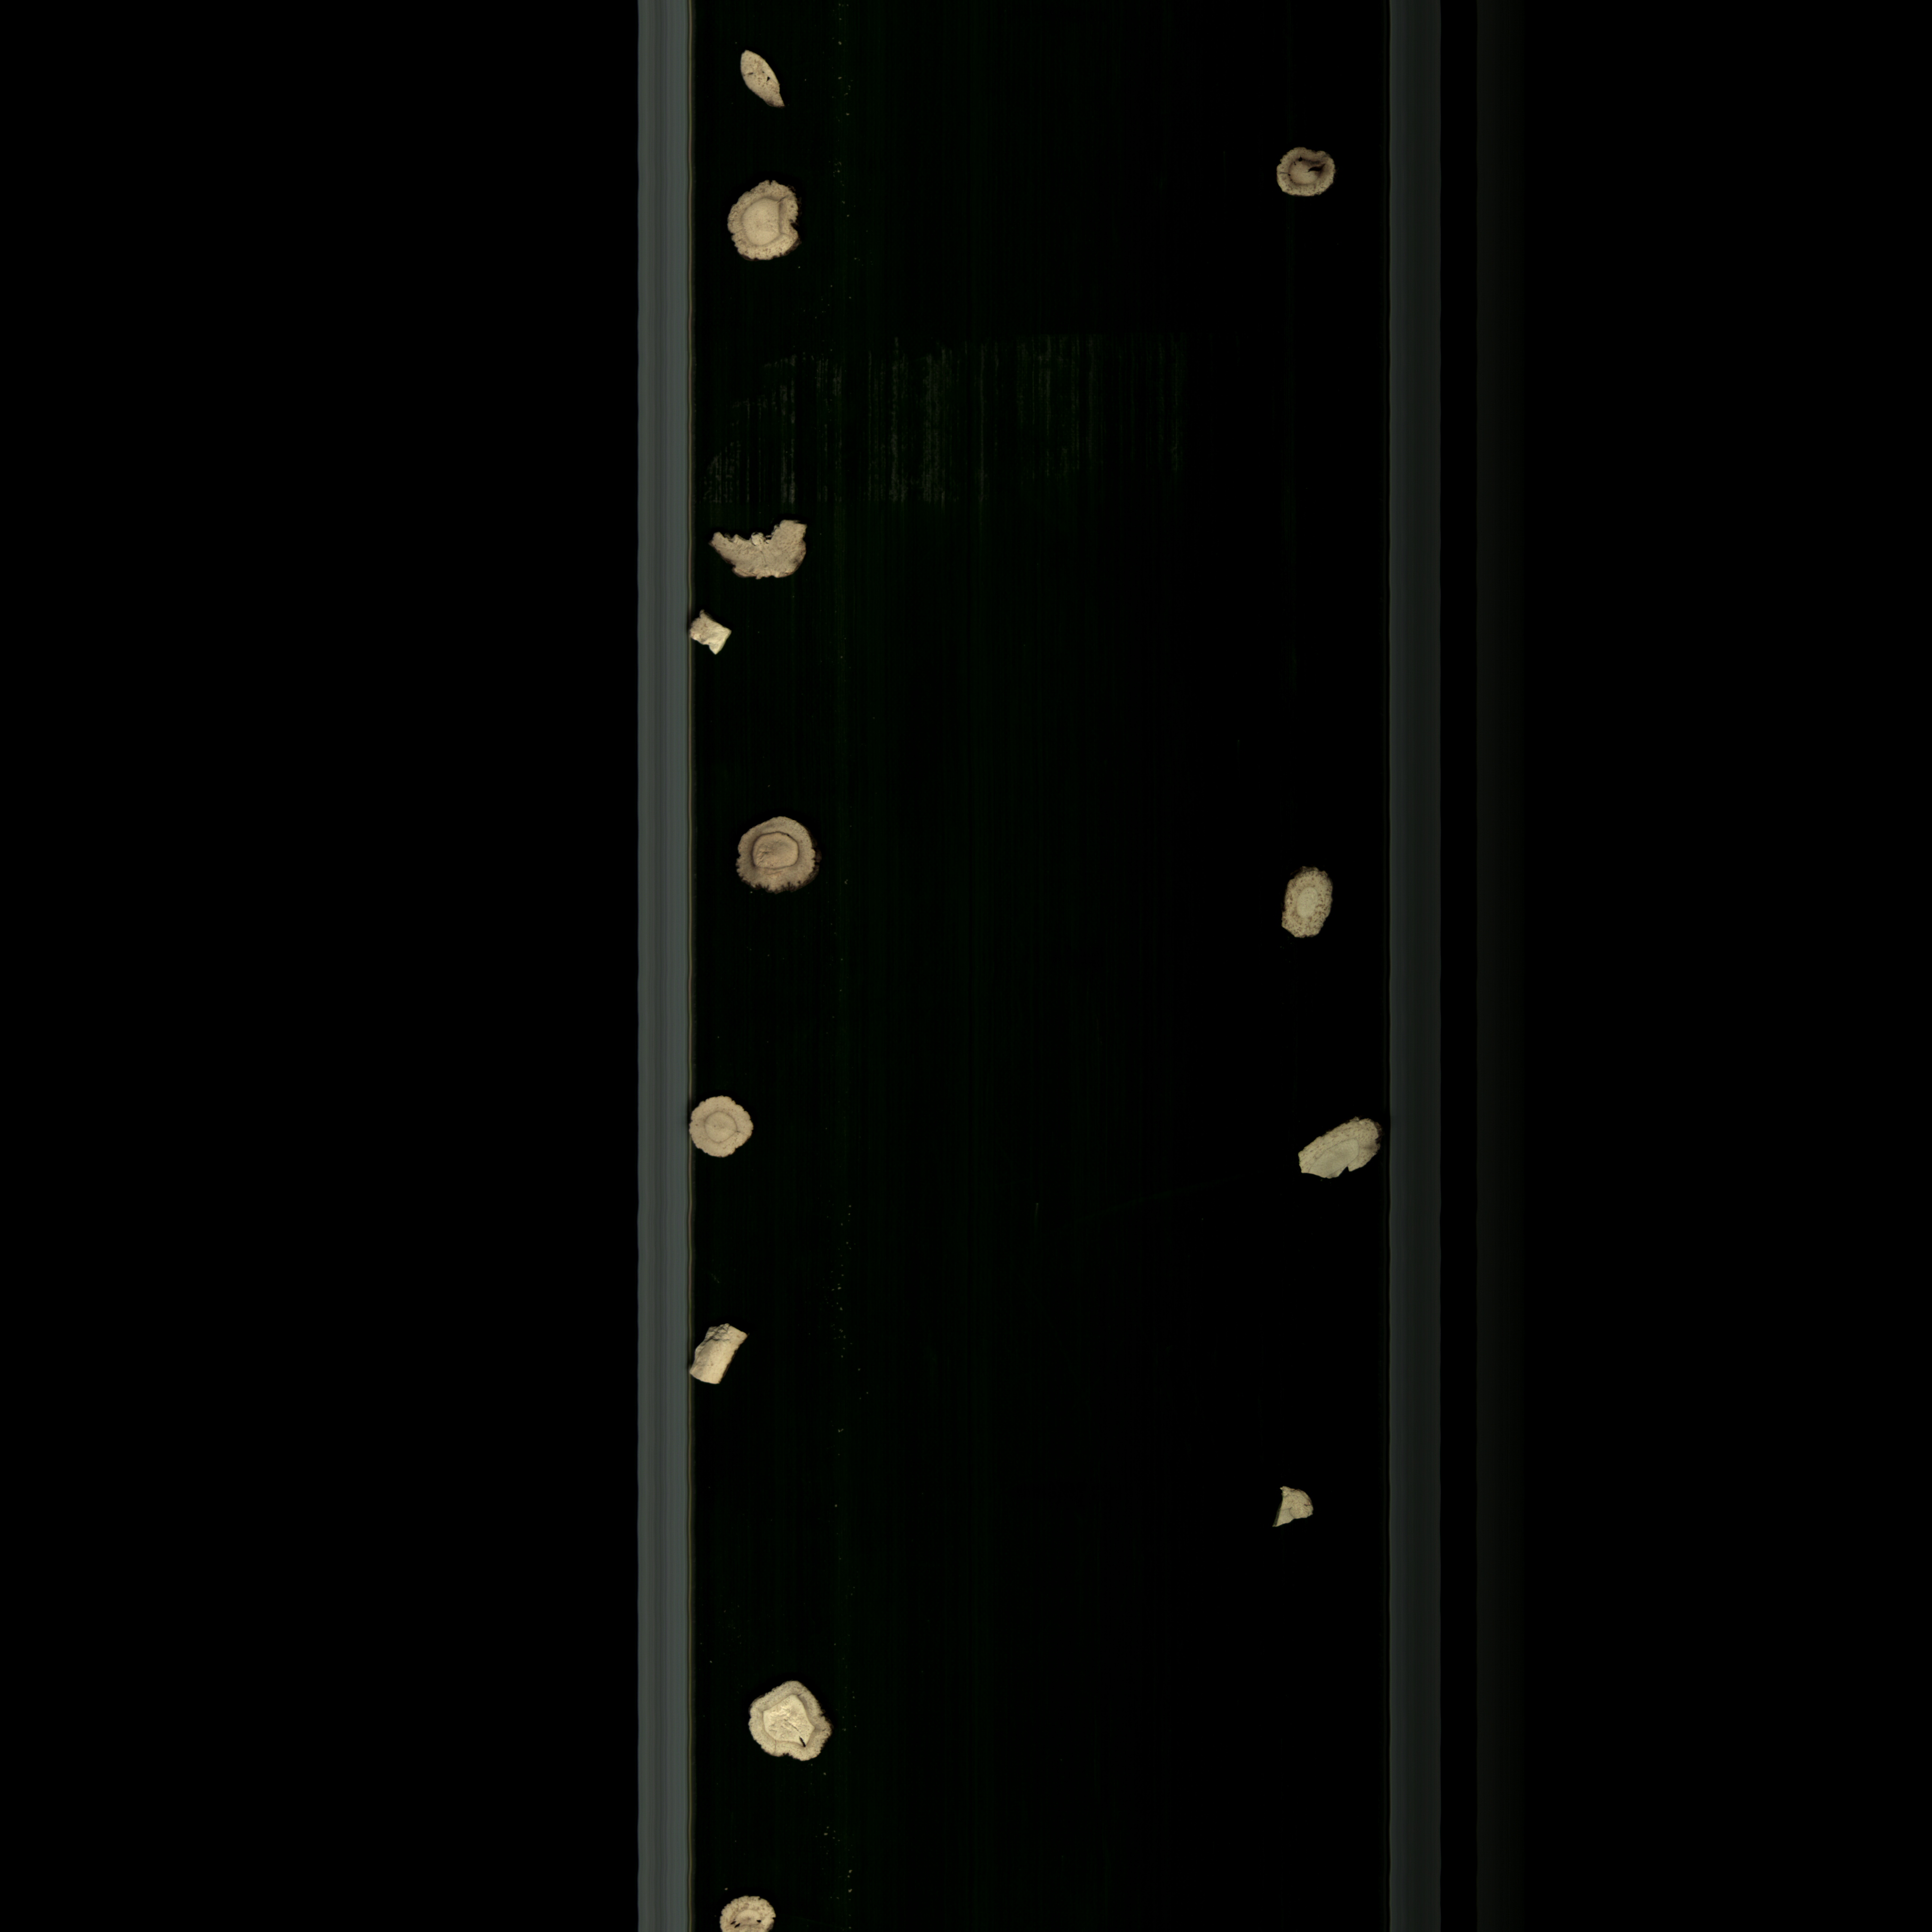debris: (702, 517, 817, 594), (1281, 1111, 1382, 1189)
distortion: (745, 1675, 837, 1771), (725, 175, 810, 276), (690, 1311, 755, 1391), (736, 42, 796, 117), (686, 607, 752, 672)
dreg: (1263, 1476, 1323, 1534)
hole: (711, 1890, 793, 1932)
moldy: (725, 807, 835, 904), (1277, 853, 1343, 957), (1270, 140, 1339, 214)
